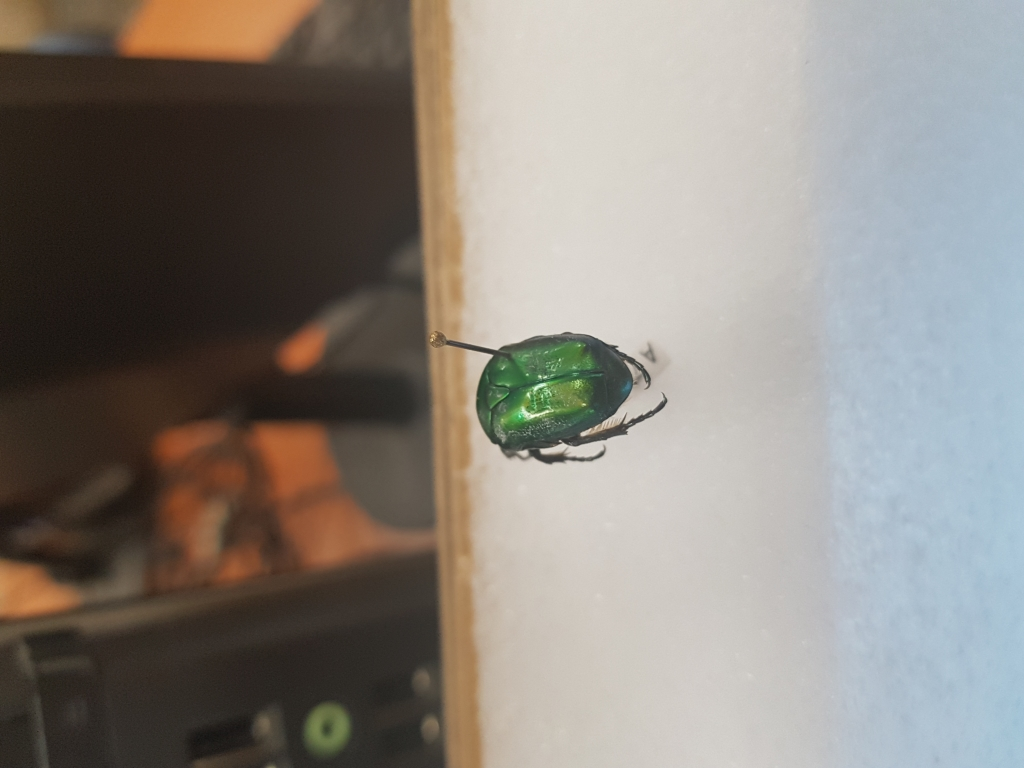Protaetia_cuprea_ignicollis: (468, 314, 693, 475)
